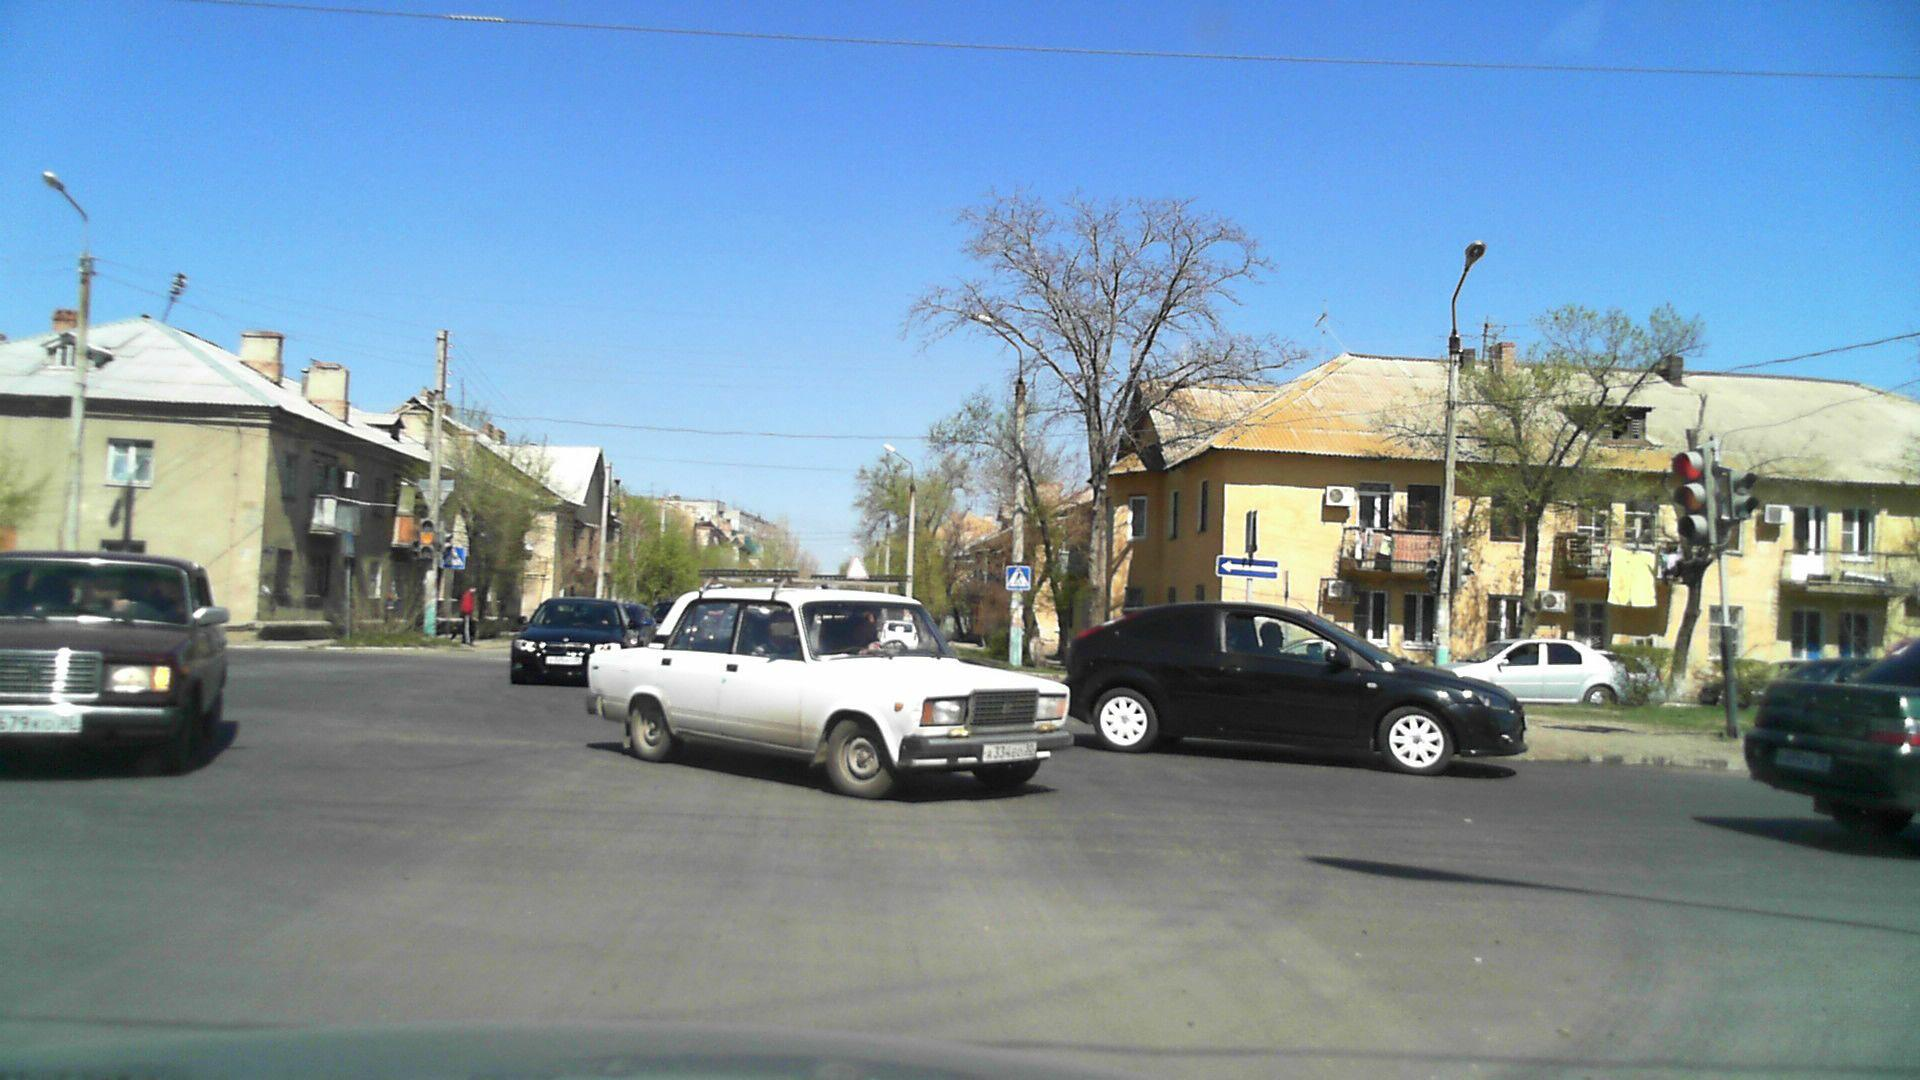5_19_1: (1006, 566, 1033, 592)
5_19_2: (439, 546, 465, 572)
5_7_2: (1215, 555, 1280, 580)
